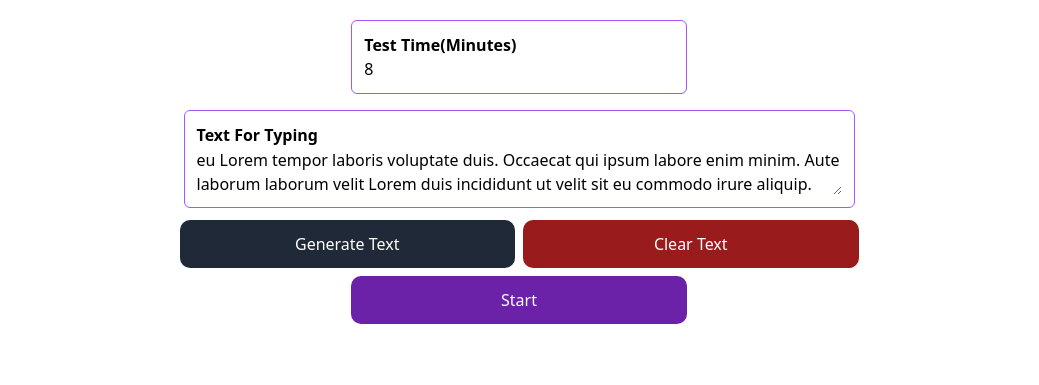
Typing Challenge › Start Test Button Should Start Test
Click the button with id "start-test-btn" at (519, 300), box [351,276,687,324]
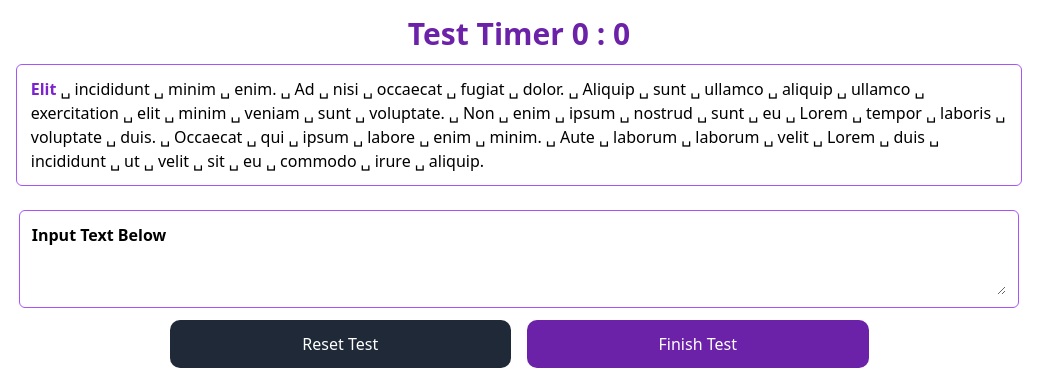
expect the heading "Test Timer 0 : 0" is shown: met, box [408,13,630,54]
